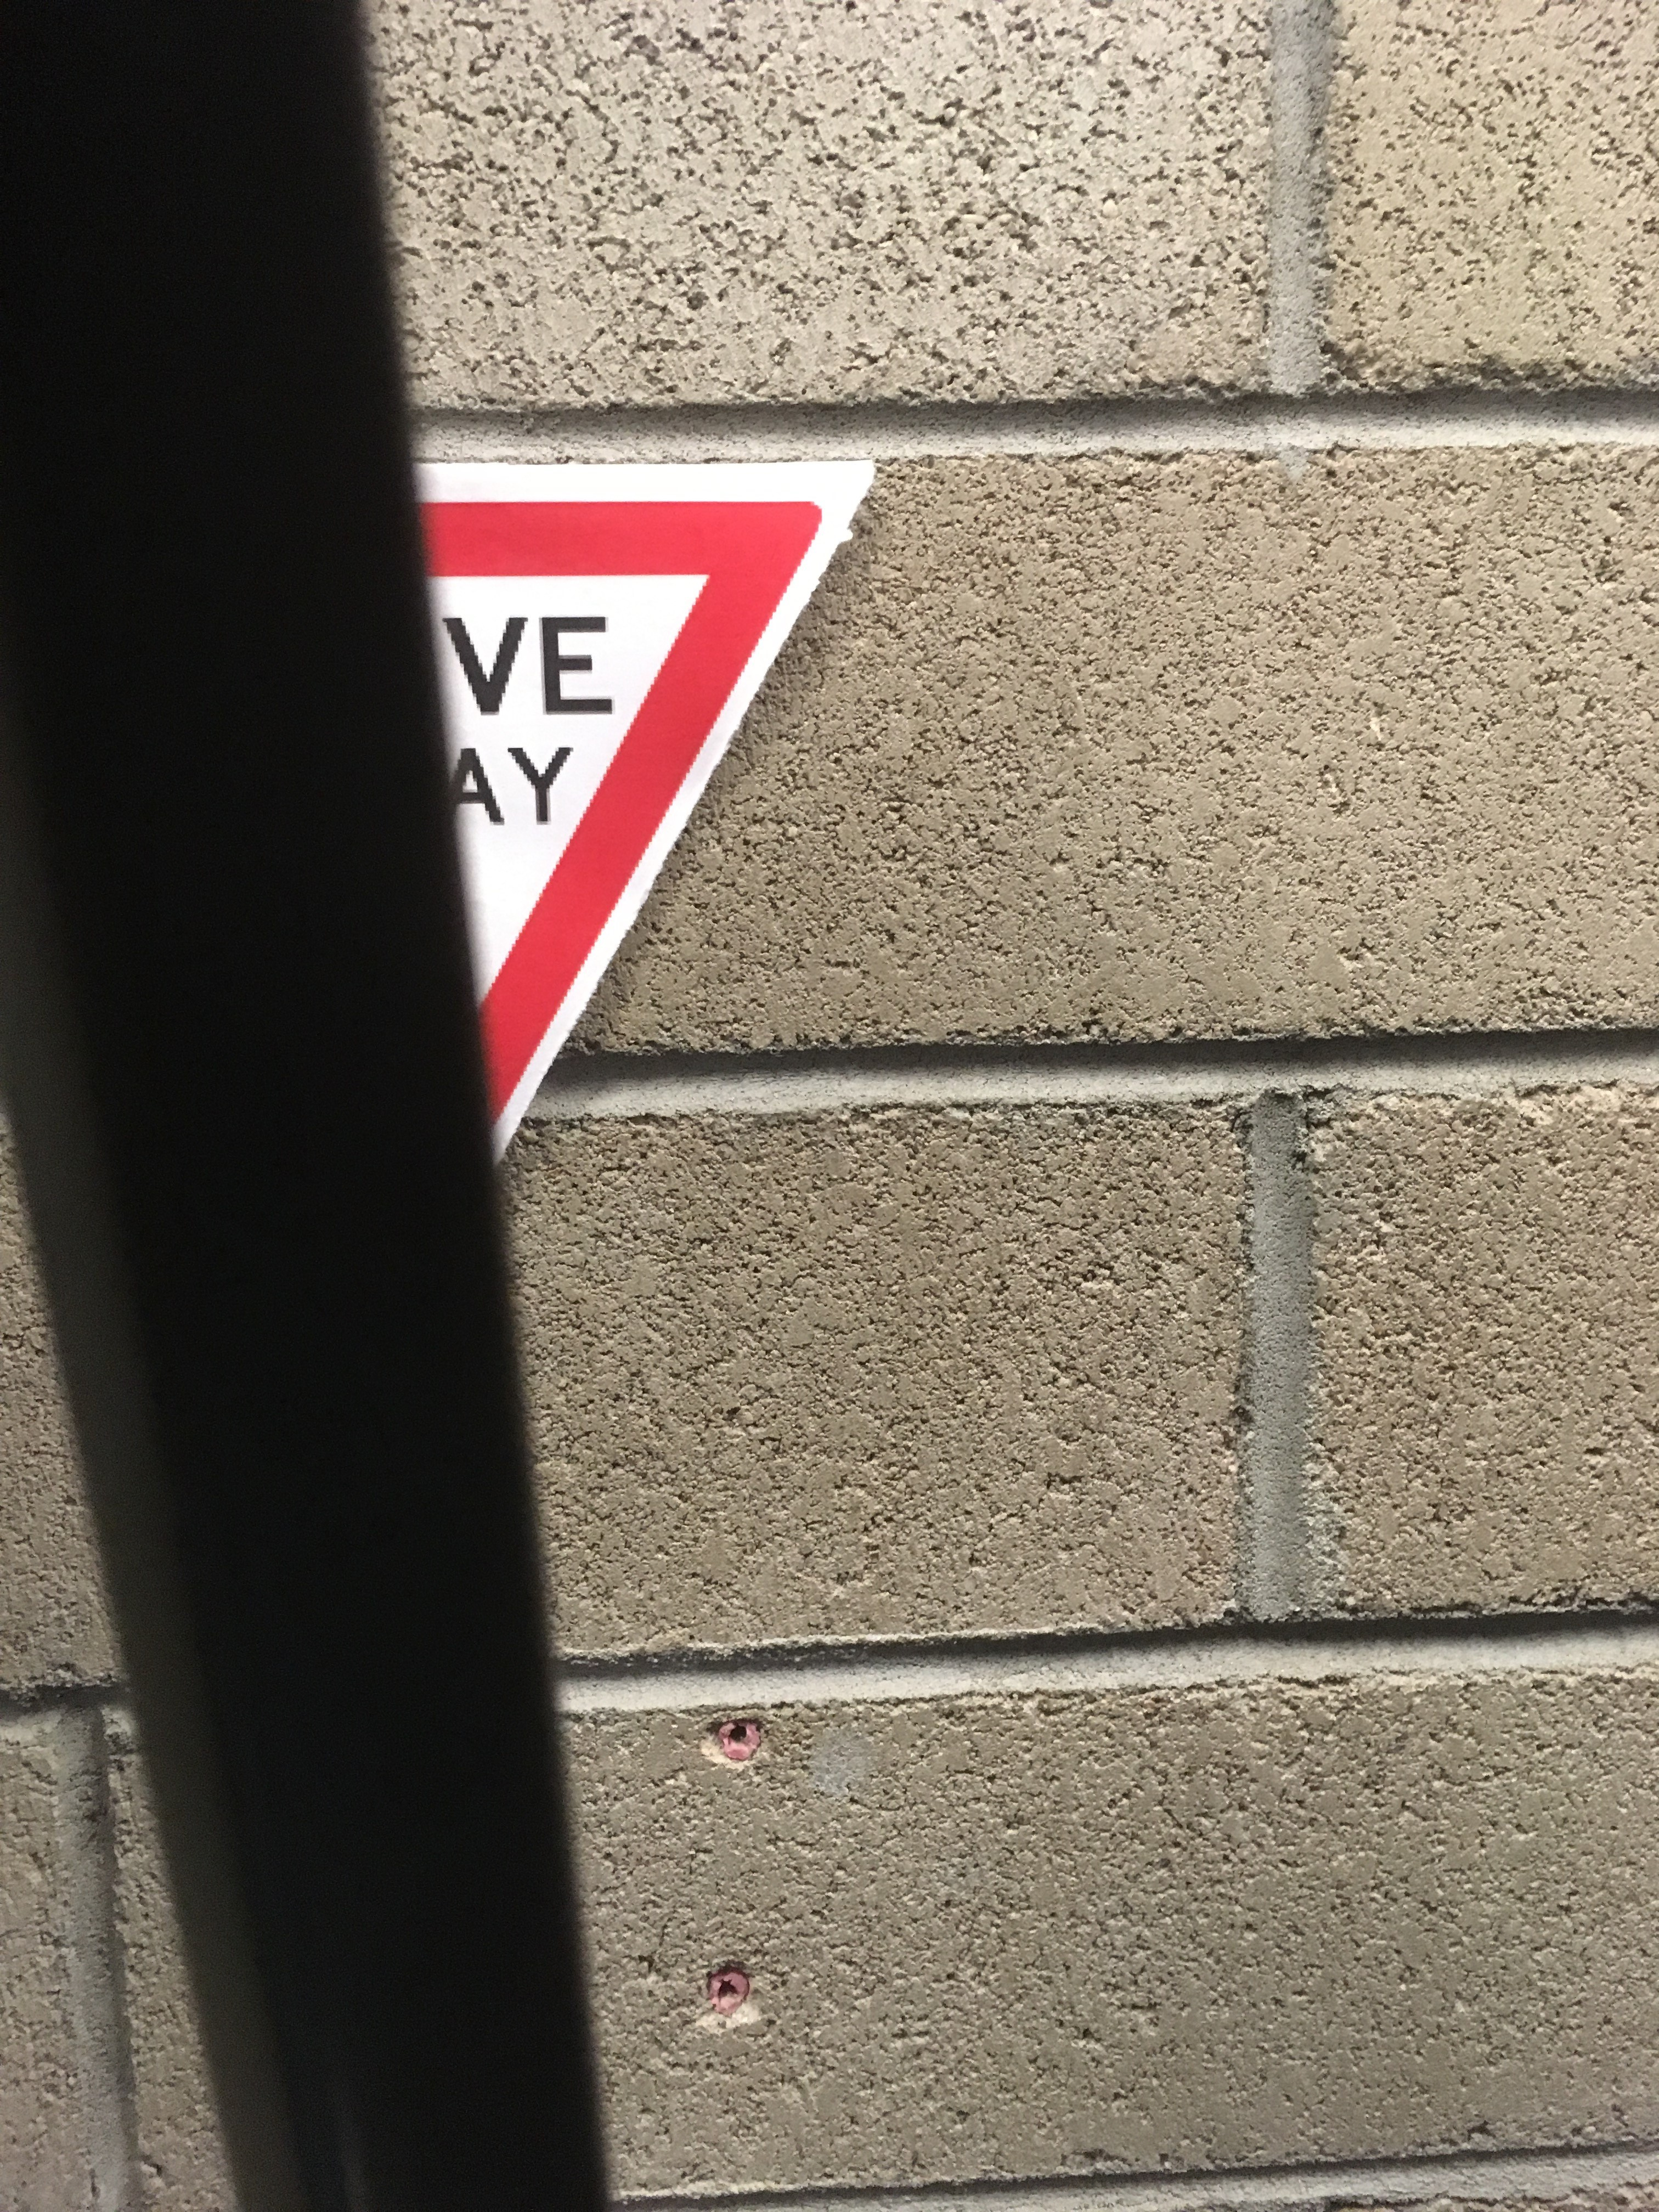giveway: (469, 374, 938, 1169), (399, 460, 892, 1172), (401, 493, 744, 1111)
